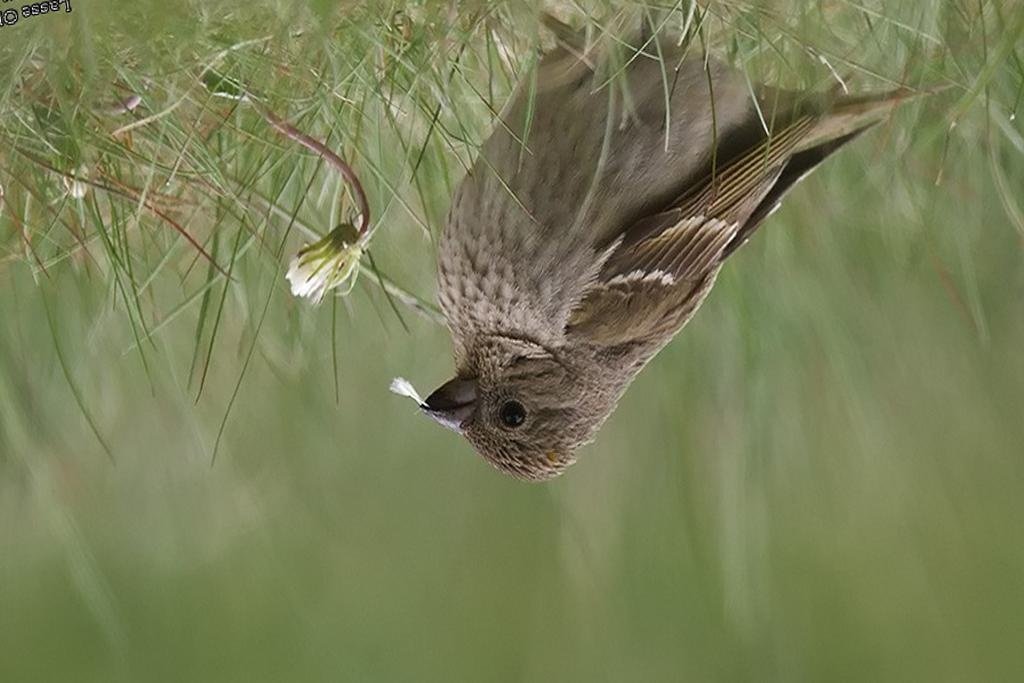rosefinch: (404, 30, 850, 473)
